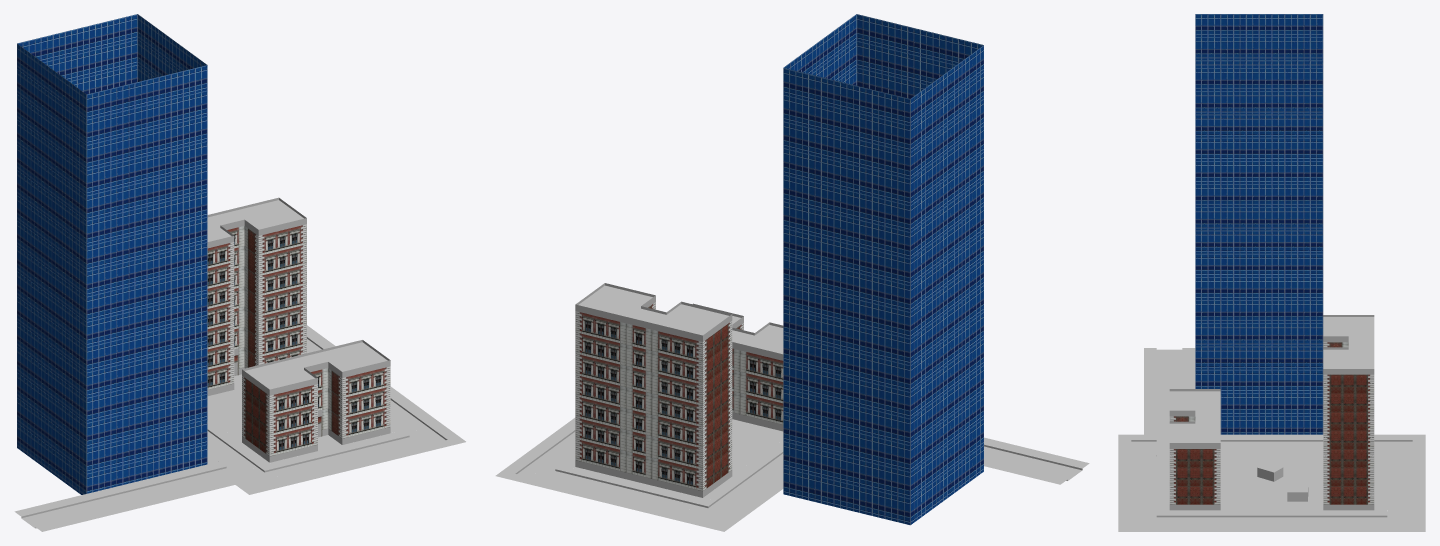
The model's file is Blender_LowPolyCity_byStarkCraft04.fbx.
3 renders of one model, left to right at view 1: azimuth 30°, elevation 25°; view 2: azimuth 150°, elevation 25°; view 3: azimuth 270°, elevation 25°, orthographic. The views are drawn at different scales.
Parts seen in each view (by area): view 1: Skyscraper_tall, Brickwall01.022, Brickwall01.021, Road.010, Road.009, Road.003, Road, Road.005, Ground.006, Road.002; view 2: Skyscraper_tall, Brickwall01.022, Brickwall01.021, Road.008, Road.007, Road.002, Ground.006, Road.009, Road.005, Road.004, Road.010; view 3: Skyscraper_tall, Brickwall01.022, Brickwall01.021, Ground.006, Road.006, Road.005, Road.009, Road.003, Road.008, Road.004, Road, Road.007 (+3 smaller).
Boxes of the visible parts, x1,y1,x2,y2 form: Skyscraper_tall: (17,14,207,494); Brickwall01.022: (207,197,306,395); Brickwall01.021: (242,340,390,462); Road.010: (14,464,220,523); Road.009: (28,476,234,531); Road.003: (260,439,441,488); Road: (270,433,403,474); Road.005: (307,330,452,439); Ground.006: (207,388,241,442); Road.002: (207,418,269,470); Skyscraper_tall: (783,14,983,525); Brickwall01.022: (575,283,732,497); Brickwall01.021: (692,303,783,431); Road.008: (521,473,713,525); Road.007: (561,467,702,510); Road.002: (703,439,783,505); Ground.006: (732,419,783,475); Road.009: (984,437,1089,475); Road.005: (510,417,575,472); Road.004: (714,466,783,520); Road.010: (984,453,1074,484); Skyscraper_tall: (1195,14,1323,434); Brickwall01.022: (1323,315,1374,510); Brickwall01.021: (1169,389,1220,510); Ground.006: (1220,456,1323,510); Road.006: (1169,510,1374,522); Road.005: (1144,522,1399,531); Road.009: (1144,348,1169,436); Road.003: (1118,445,1143,522); Road.008: (1400,445,1425,522); Road.004: (1220,434,1399,446); Road: (1144,456,1169,511); Road.007: (1374,456,1399,511).
Size of the model in its own units: 8500 by 8000 by 6000.
